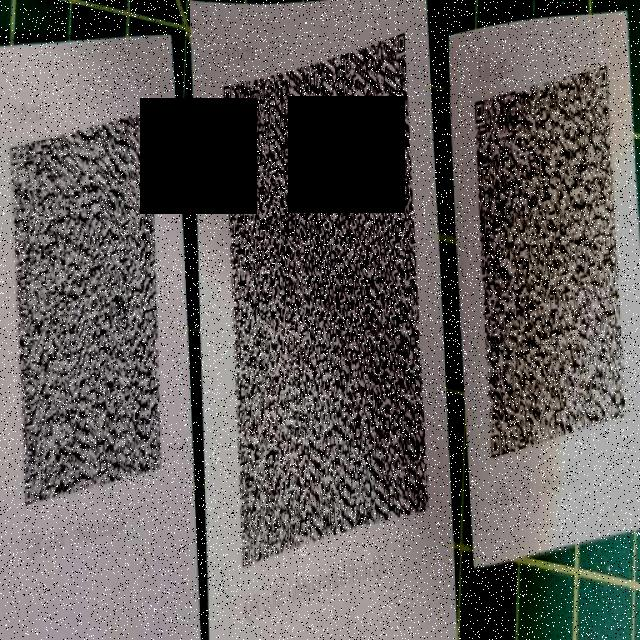QR_CODE: (214, 11, 436, 589), (1, 82, 174, 534), (465, 35, 631, 485)
